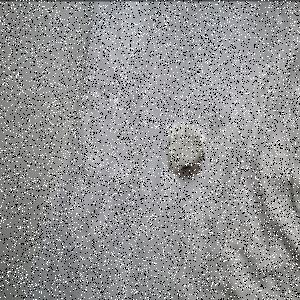Cup: (170, 122, 208, 174)
